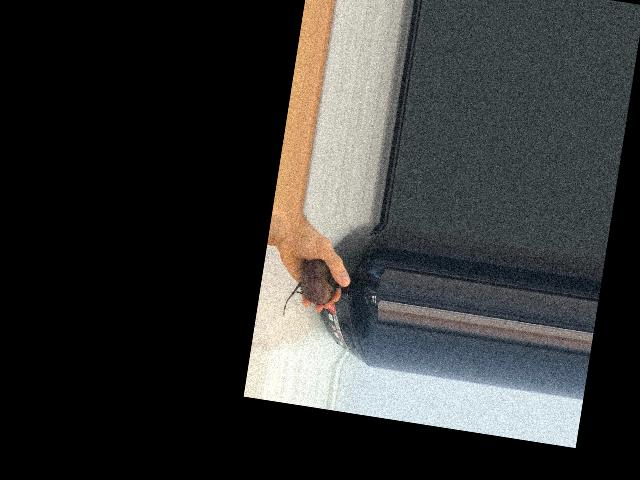beet: (282, 255, 344, 325)
